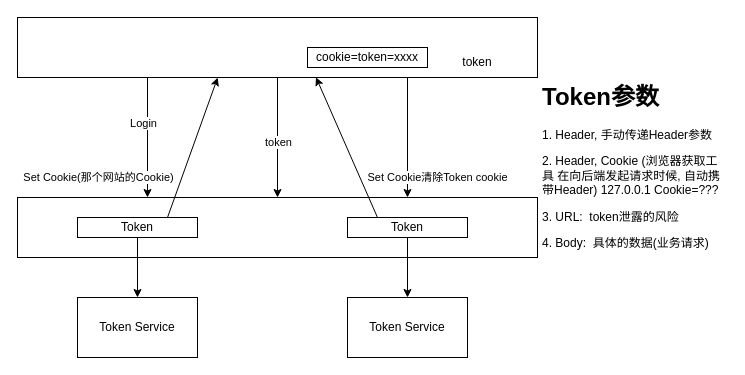
Image size: 745x375. Some labels were removed from this diagram. Each missing label, with the box of its shape:
API: (16, 196, 538, 258)
UI: (16, 16, 538, 78)
